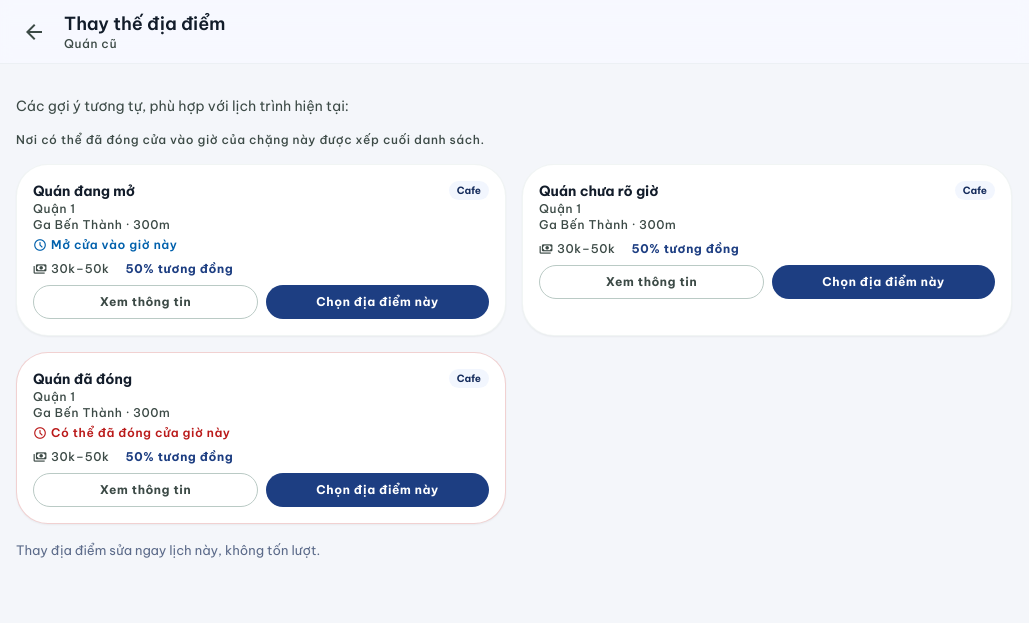
Test: ReplacePlacePage opening status › maps replacement_too_long to a Vietnamese message
The image size is (1029, 623).
Click the button "Chọn địa điểm này" below "Mở cửa vào giờ này" at point(378, 302), box [266,285,489,319]
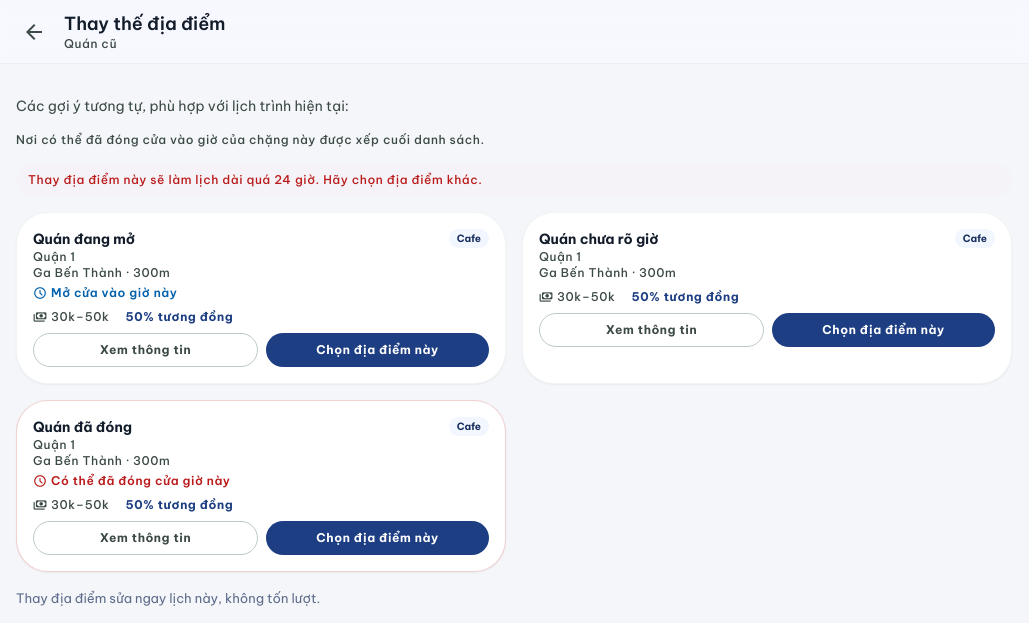
Check: the text "Thay địa điểm này sẽ làm lịch dài quá 24 giờ. Hãy chọn địa điểm khác." is shown, box [16,164,1012,196]
